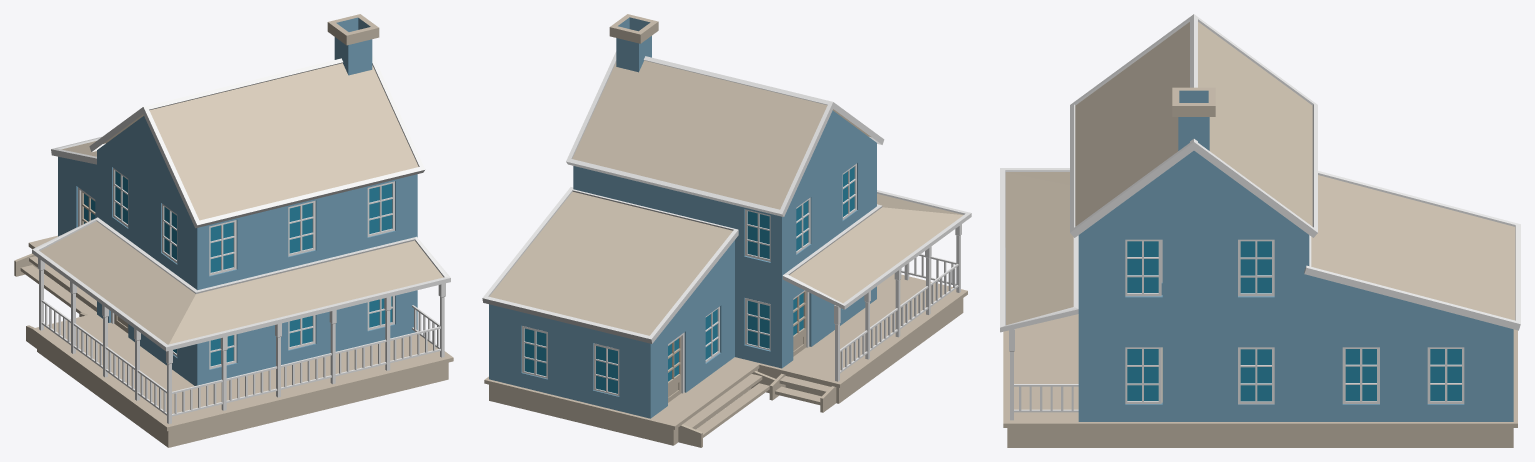
Rendered from Res3.obj.
The picture shows the model from 3 angles, left to right: view 1: azimuth 30°, elevation 25°; view 2: azimuth 150°, elevation 25°; view 3: azimuth 270°, elevation 25°; orthographic projection. The views are drawn at different scales.
Visible parts, largest first — view 1: Res3, Base, Railings_2, Window9, Window10, Window11, Window7, Window2, Window3, Window8, Window6, Door2; view 2: Res3, Base, Railings_2, Window13, Window19, Window5, Window4, Door2, Door1, Window2, Window3, Window12; view 3: Res3, Base, Window14, Window15, Window16, Window18, Window20, Window17, Railings_2.
Part boxes in pixels (x1,y1,x2,y2): Res3: [32, 14, 450, 385]; Base: [14, 235, 453, 447]; Railings_2: [38, 258, 445, 423]; Window9: [209, 220, 236, 275]; Window10: [288, 200, 315, 256]; Window11: [367, 181, 394, 236]; Window7: [288, 315, 315, 349]; Window2: [162, 203, 177, 263]; Window3: [113, 168, 128, 227]; Window8: [367, 296, 394, 330]; Window6: [209, 334, 236, 369]; Door2: [78, 187, 95, 226]; Res3: [482, 14, 971, 418]; Base: [484, 273, 967, 447]; Railings_2: [834, 224, 961, 381]; Window13: [593, 343, 619, 395]; Window19: [522, 326, 547, 378]; Window5: [745, 209, 770, 261]; Window4: [745, 298, 770, 350]; Door2: [668, 332, 684, 402]; Door1: [793, 290, 809, 356]; Window2: [842, 163, 856, 219]; Window3: [796, 197, 810, 253]; Window12: [705, 306, 719, 362]; Res3: [1000, 14, 1520, 421]; Base: [1003, 314, 1517, 447]; Window14: [1427, 347, 1464, 403]; Window15: [1342, 347, 1379, 403]; Window16: [1238, 347, 1274, 404]; Window18: [1125, 239, 1161, 296]; Window20: [1238, 239, 1274, 296]; Window17: [1125, 347, 1161, 403]; Railings_2: [1009, 329, 1078, 420].
Size of the model in its own units: 0.6543 by 0.6449 by 0.8862.
